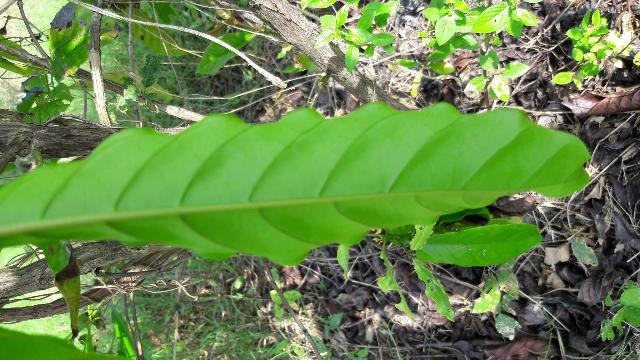healthy: (3, 102, 591, 261)
